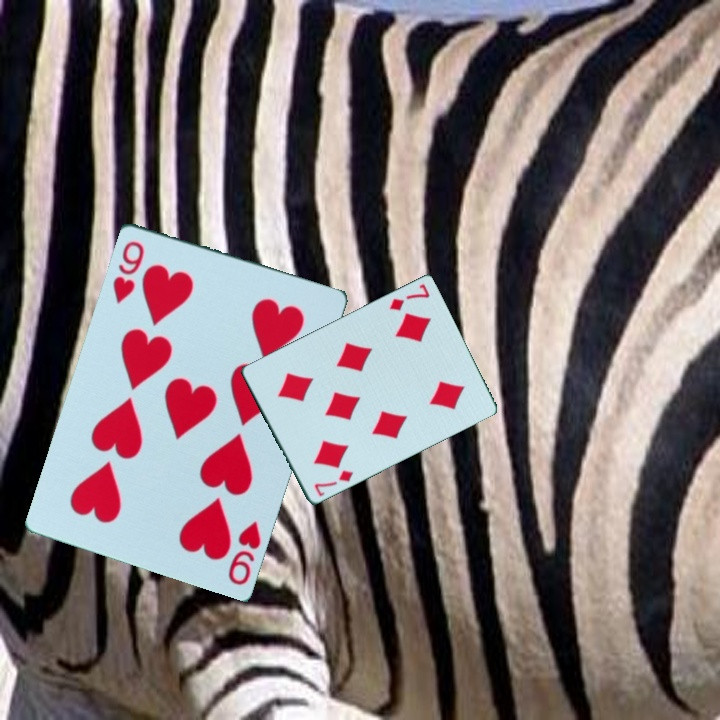7d: (386, 281, 433, 314), (310, 467, 356, 500)
9h: (224, 517, 264, 588), (108, 236, 147, 307)
